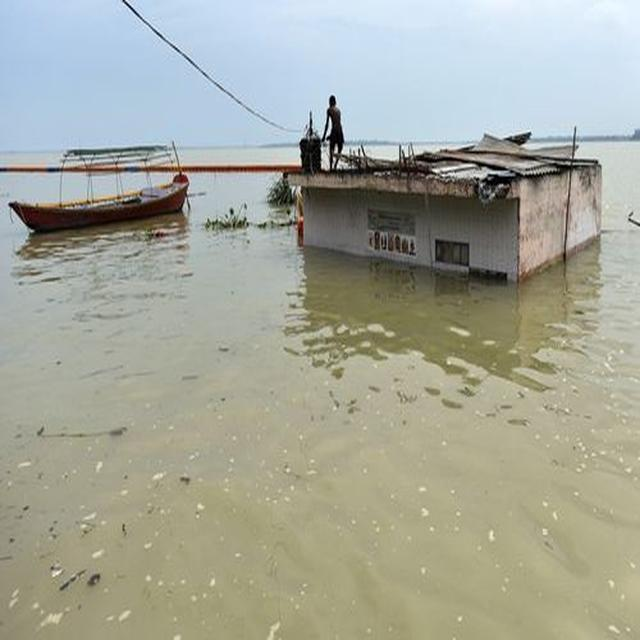Person-RiskLevel1: (309, 84, 362, 176)
